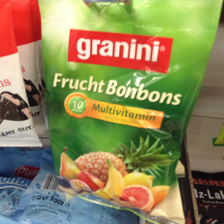candy: (40, 2, 203, 212)
